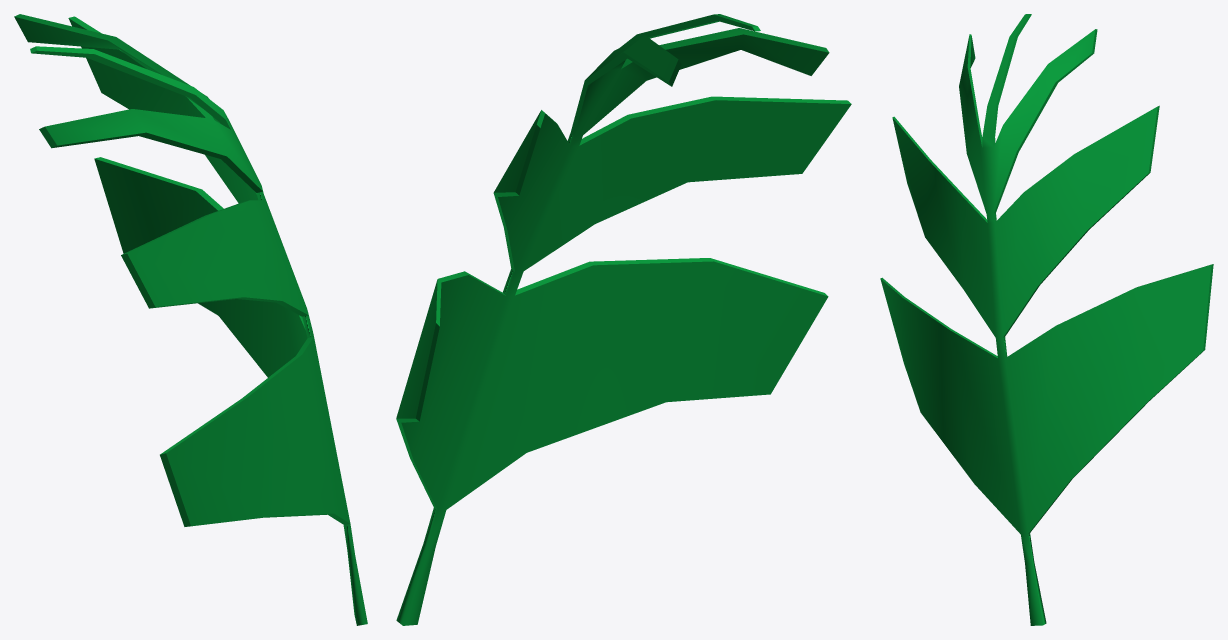
Rendered from Plant Leaf.fbx.
The picture shows the model from 3 angles, left to right: view 1: azimuth 30°, elevation 25°; view 2: azimuth 150°, elevation 25°; view 3: azimuth 270°, elevation 25°; orthographic projection. The views are drawn at different scales.
Parts seen in each view (by area): view 1: Plant_Leaf_01; view 2: Plant_Leaf_01; view 3: Plant_Leaf_01.
Part boxes in pixels (bbox=[...]): Plant_Leaf_01: bbox=[14, 14, 367, 625]; Plant_Leaf_01: bbox=[396, 14, 851, 625]; Plant_Leaf_01: bbox=[880, 14, 1213, 625].
Size of the model in its own units: 49.63 by 83.64 by 51.34.
